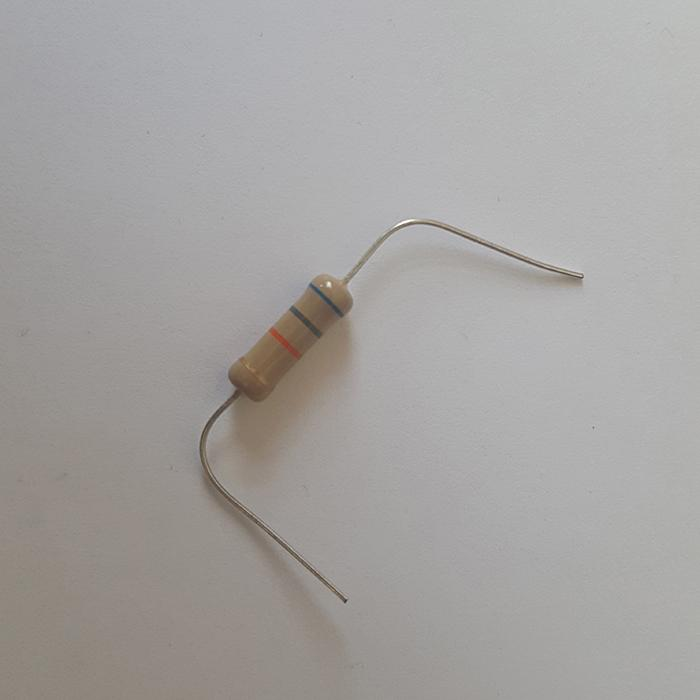resistor: (229, 273, 353, 403)
